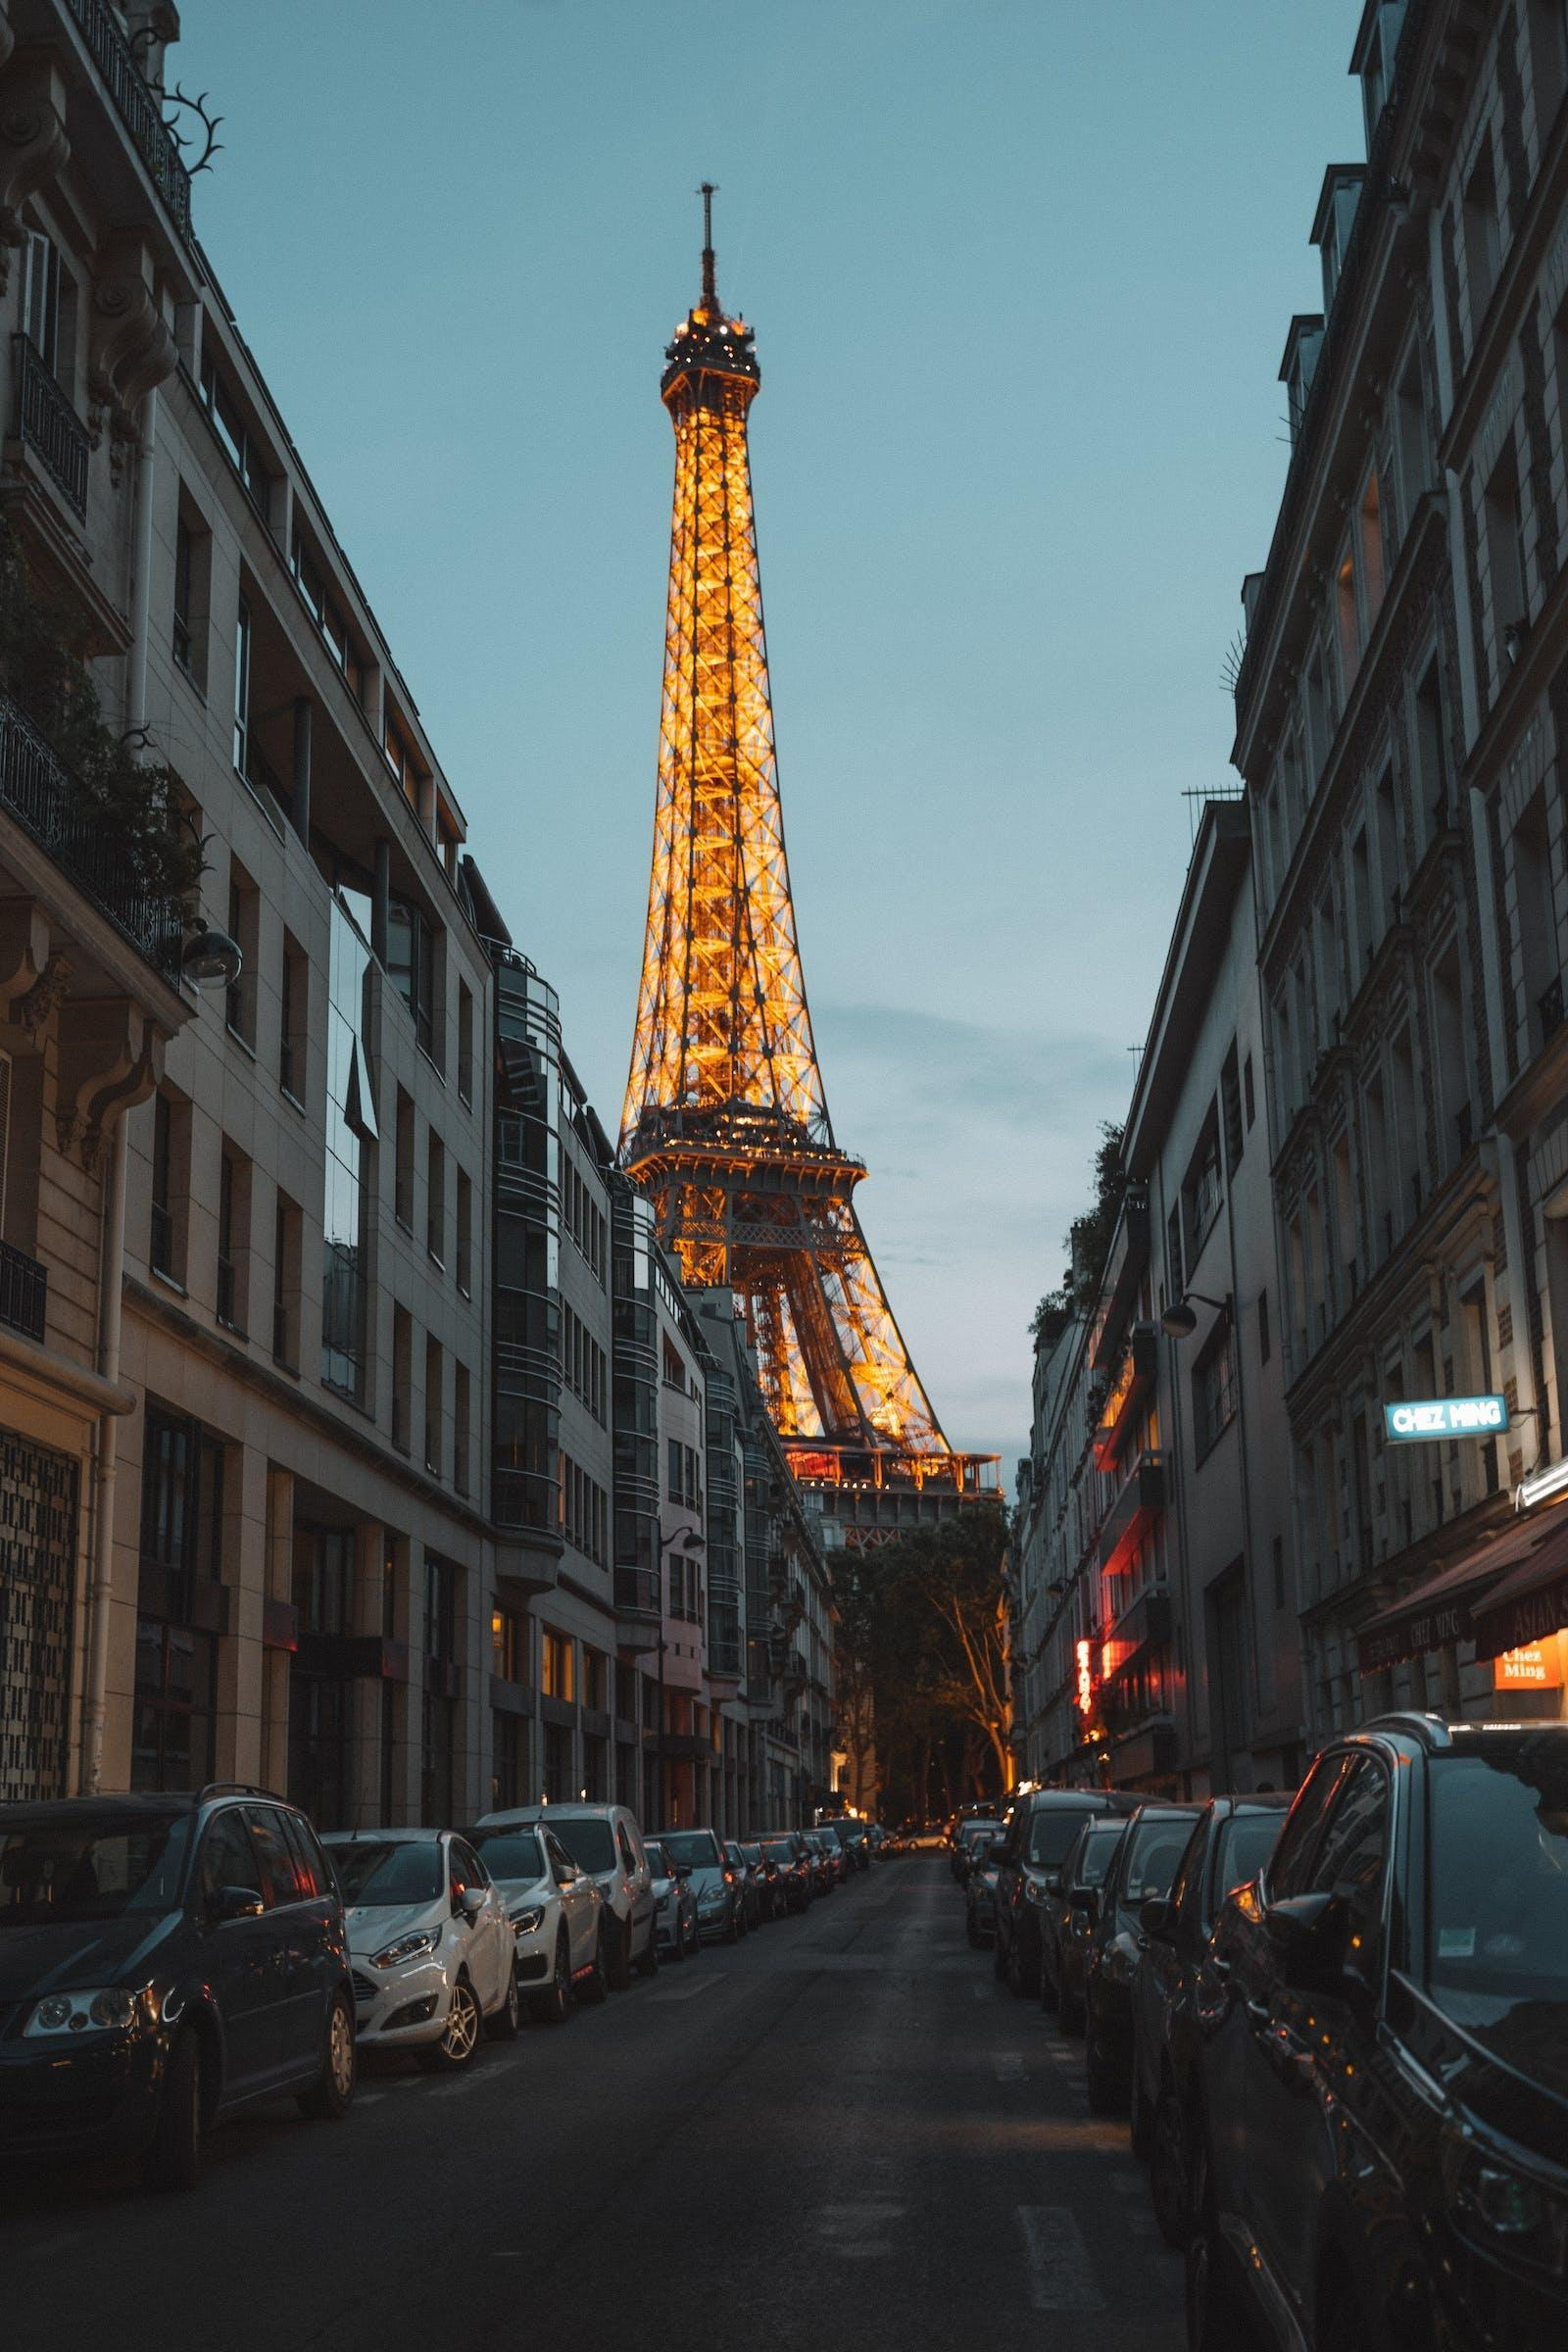road: (5, 1855, 1181, 2350)
